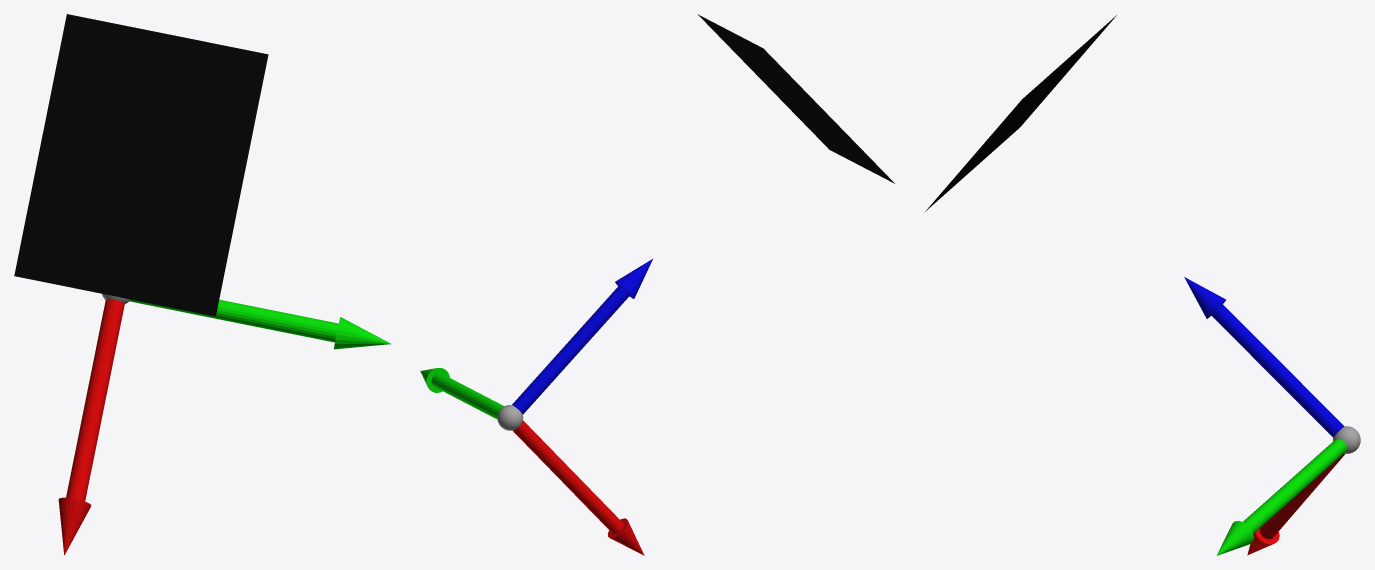
3 views of the same model, side by side, from view 1: azimuth 30°, elevation 25°; view 2: azimuth 150°, elevation 25°; view 3: azimuth 270°, elevation 25° (orthographic). The views are drawn at different scales.
Size of the model in its own units: 0.2564 by 0.3049 by 0.236.
